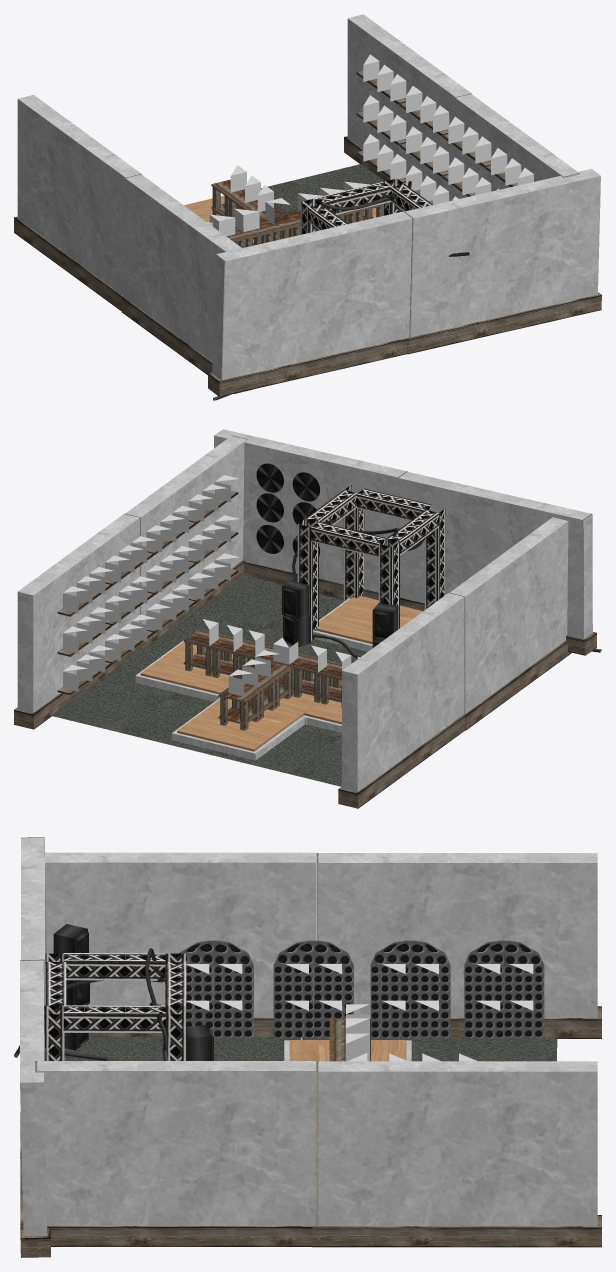
File: music_shop.glb
The picture shows the model from 3 angles, top to bottom: view 1: azimuth 30°, elevation 25°; view 2: azimuth 150°, elevation 25°; view 3: azimuth 270°, elevation 25°; orthographic projection. The views are drawn at different scales.
Parts seen in each view (by area): view 1: world, placement.028; view 2: world, placement.034; view 3: world.
Part boxes in pixels (x1=…): world: x1=14, y1=14, x2=601, y2=400; placement.028: x1=234, y1=208, x2=259, y2=232; world: x1=14, y1=429, x2=601, y2=808; placement.034: x1=273, y1=637, x2=298, y2=664; world: x1=14, y1=837, x2=601, y2=1257.
Bounding box in the file's own units: 28.02 × 9.75 × 28.47.
Materials: 1 (1 with a texture image).
